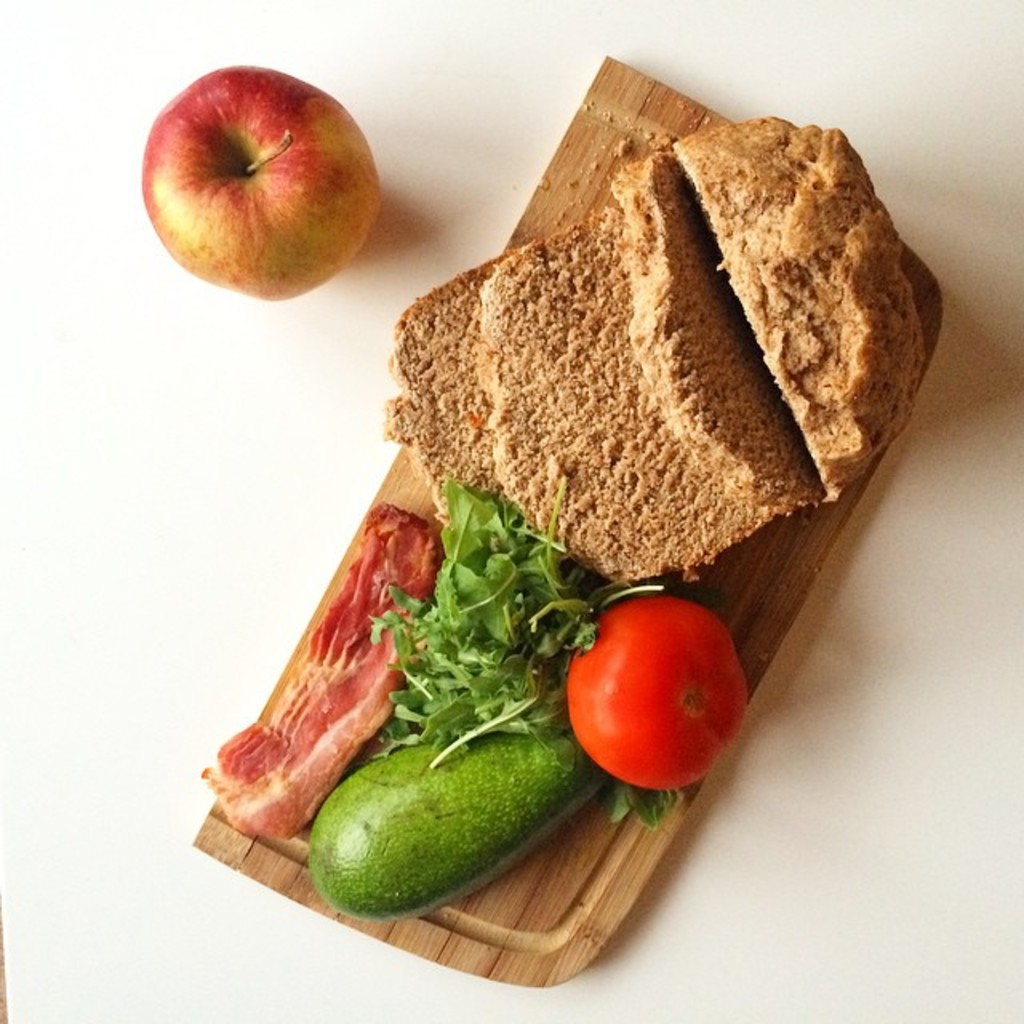Apple: (148, 68, 385, 299)
